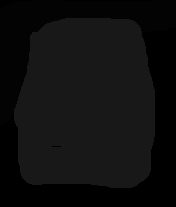fp: (14, 14, 158, 190)
